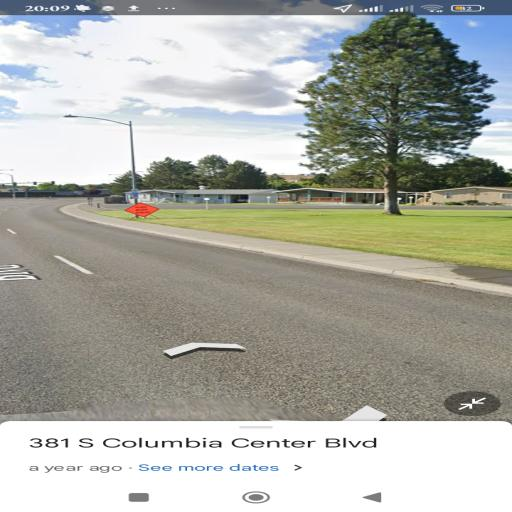Roads: (0, 198, 508, 415)
Trees: (296, 6, 494, 222)
